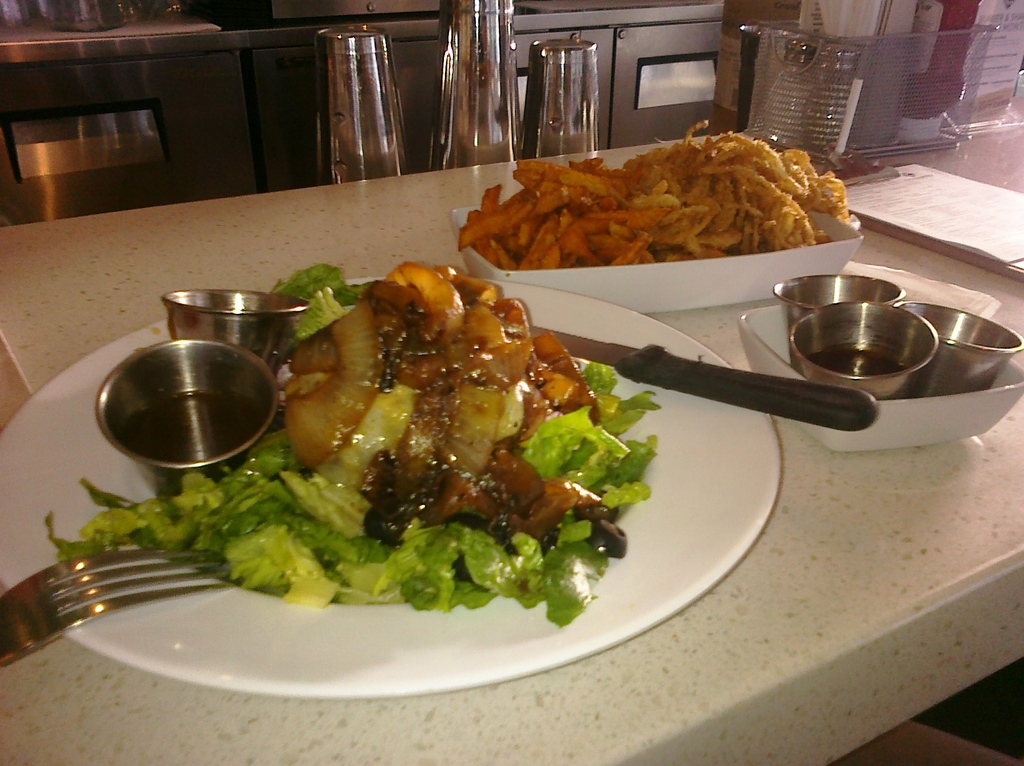French fries: (434, 133, 886, 278)
